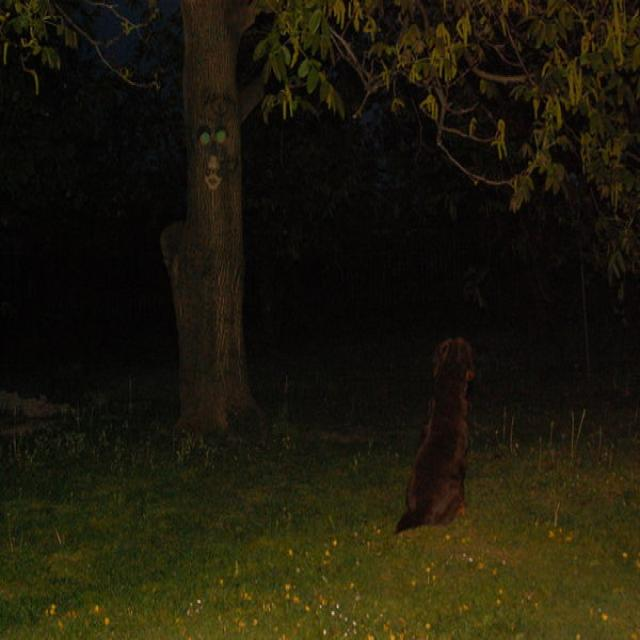Dog: (410, 290, 498, 560)
